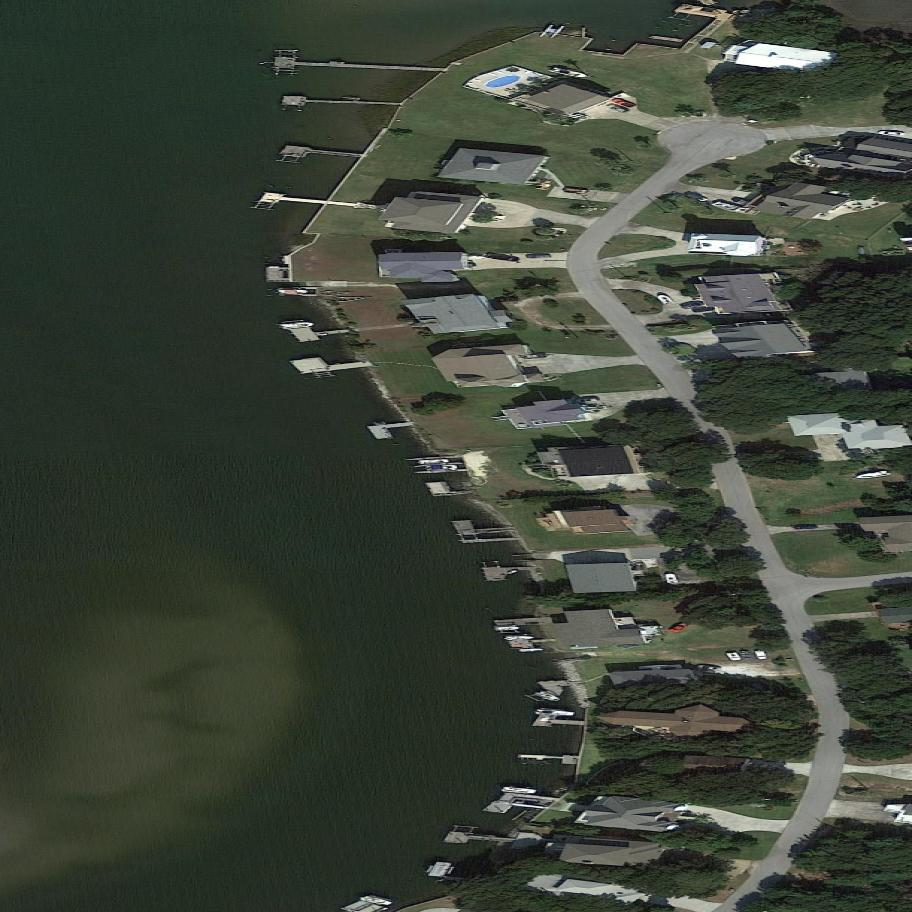ship: (543, 64, 591, 80), (534, 21, 567, 41), (849, 469, 894, 483), (534, 688, 566, 706), (360, 894, 396, 908), (533, 708, 578, 718), (275, 321, 317, 330), (499, 787, 537, 795), (416, 458, 451, 466), (652, 294, 676, 305), (424, 464, 461, 471), (502, 634, 539, 641), (663, 573, 682, 585), (276, 289, 308, 295), (725, 652, 742, 662), (495, 625, 521, 631)
small-vehicle: (667, 616, 693, 637), (603, 102, 634, 116), (683, 190, 710, 205), (608, 96, 639, 109), (485, 253, 521, 263), (679, 299, 705, 311), (690, 305, 719, 314), (570, 397, 603, 403), (694, 664, 722, 671), (876, 130, 906, 136), (752, 651, 770, 660), (791, 525, 821, 530), (527, 255, 552, 258)
